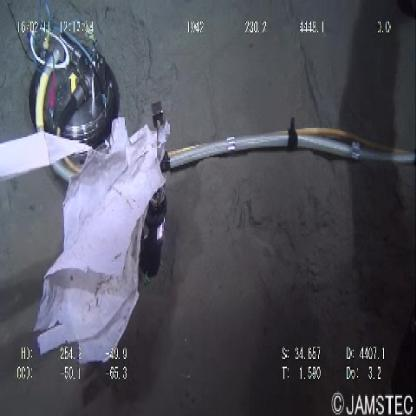Rov: (24, 17, 124, 149)
Rác: (1, 126, 169, 370)
